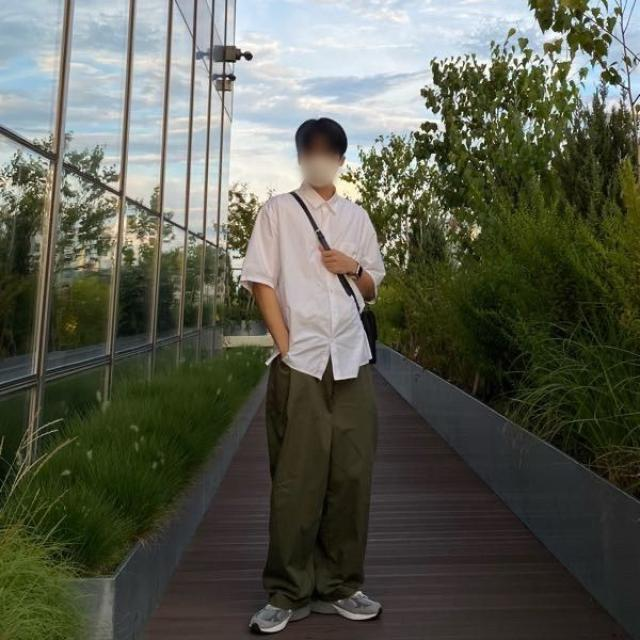cottonpants: (263, 355, 377, 611)
shirt: (246, 180, 389, 382)
